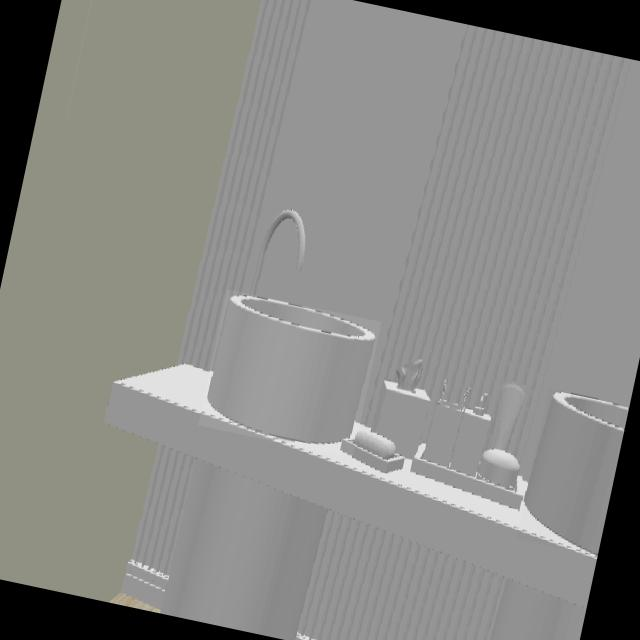washbasin: (205, 296, 374, 447), (523, 391, 629, 556)
